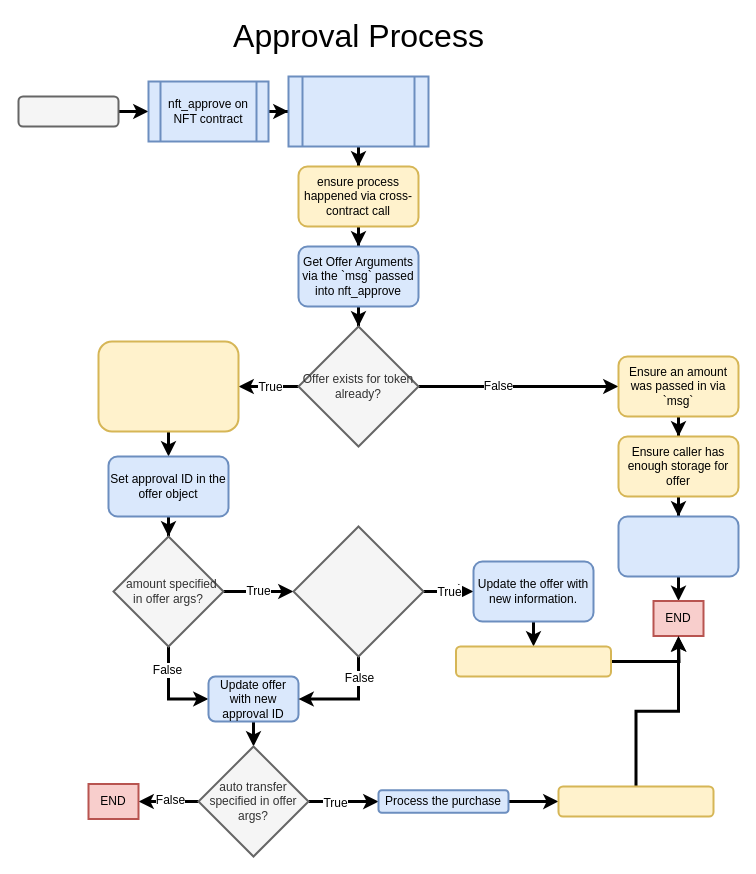
Some shapes in this 756 by 874 pixel diagram are drawn without their labels. The centre of each missing label's shape, as x and y in pixels:
Add an offer where maker = taker = token owner: (678,546)
Get offer and ensure the taker is the supposed owner passed into nft_on_approve: (168,386)
is specified amount greater than offer amount?: (358,591)
LOG RESOLVE_OFFER: (635,801)
LOG UPDATE_OFFER: (533,661)
nft_on_approve on market contract: (358,111)
Token Owner: (68,111)
